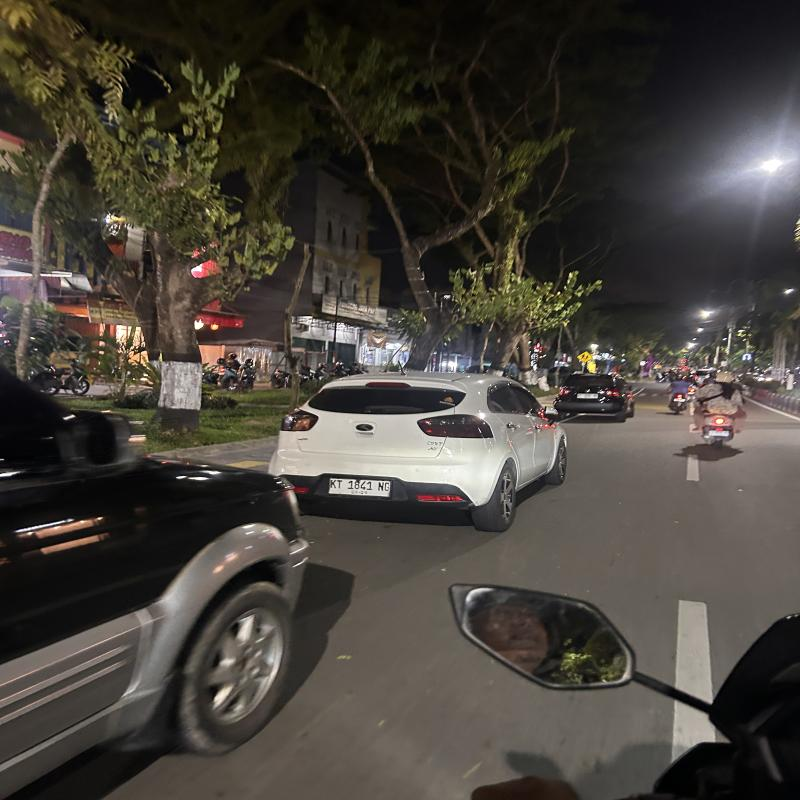license plate on a car: (328, 476, 394, 499), (578, 391, 600, 400)
